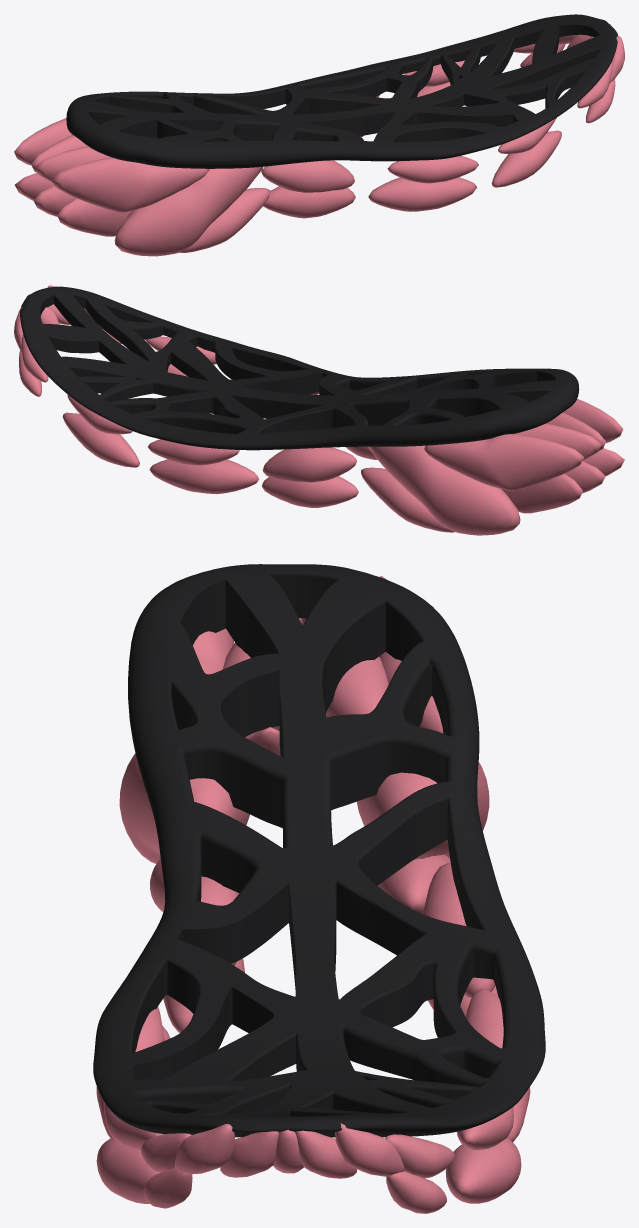
File: lotus-midsole.glb
3 renders of one model, top to bottom at view 1: azimuth 30°, elevation 25°; view 2: azimuth 150°, elevation 25°; view 3: azimuth 270°, elevation 25°, orthographic. The views are drawn at different scales.
Visible parts, largest first — view 1: Web, Petals; view 2: Web, Petals; view 3: Web, Petals.
Boxes of the visible parts, x1=… form: Web: x1=66, y1=14, x2=617, y2=168; Petals: x1=14, y1=24, x2=624, y2=256; Web: x1=20, y1=286, x2=579, y2=450; Petals: x1=14, y1=285, x2=624, y2=535; Web: x1=93, y1=564, x2=545, y2=1137; Petals: x1=96, y1=576, x2=530, y2=1213.
Bounding box in the file's own units: 0.1051 × 0.023 × 0.0358.
